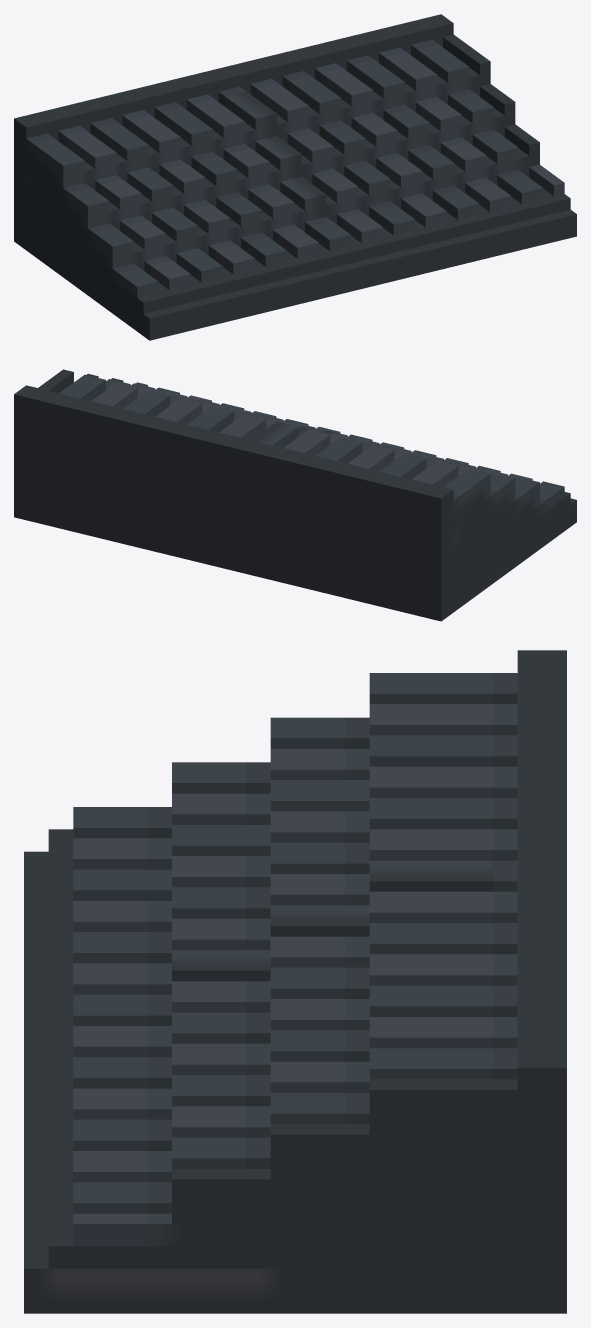
Rendered from BuildingBlock-9.fbx.
The picture shows the model from 3 angles, top to bottom: view 1: azimuth 30°, elevation 25°; view 2: azimuth 150°, elevation 25°; view 3: azimuth 270°, elevation 25°; orthographic projection. The views are drawn at different scales.
Visible parts, largest first — view 1: BuildingBlock_9; view 2: BuildingBlock_9; view 3: BuildingBlock_9.
Part boxes in pixels (left/top/right/bottom): BuildingBlock_9: left=14, top=14, right=576, bottom=340; BuildingBlock_9: left=14, top=369, right=576, bottom=621; BuildingBlock_9: left=24, top=650, right=566, bottom=1313.
Size of the model in its own units: 400 by 110 by 220.
